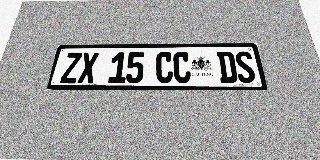1: (108, 52, 128, 83)
5: (126, 52, 144, 83)
C: (173, 52, 191, 83), (156, 52, 173, 83)
D: (217, 51, 238, 83)
S: (234, 51, 257, 83)
X: (77, 52, 99, 83)
Z: (60, 53, 82, 83)
